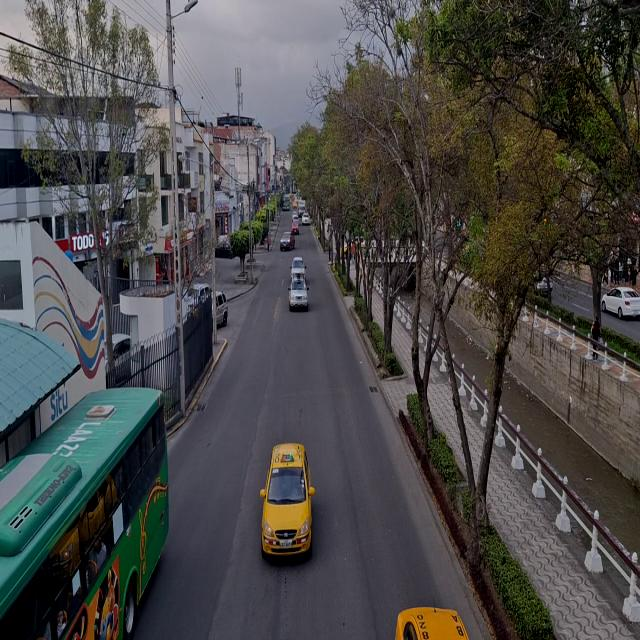BUS: (0, 393, 164, 640)
CMT: (281, 233, 295, 250)
SED: (262, 444, 312, 556)
